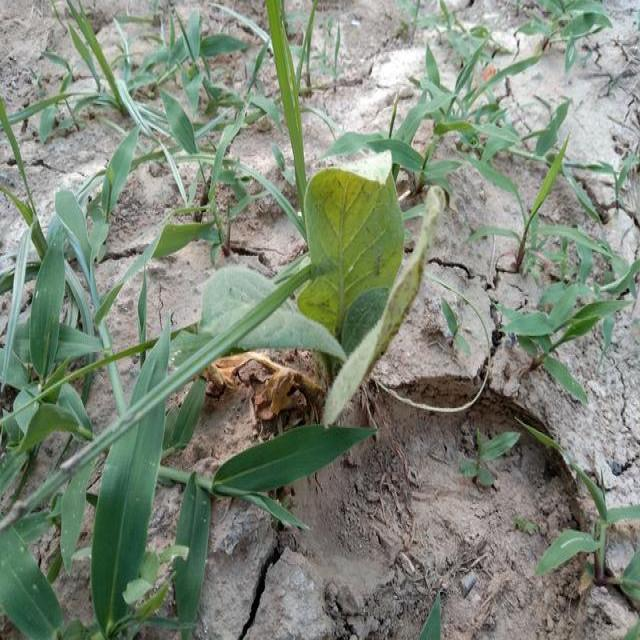crop: (189, 152, 427, 408)
